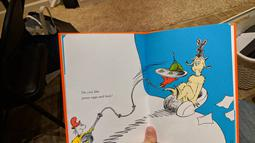text block: (78, 86, 116, 100)
